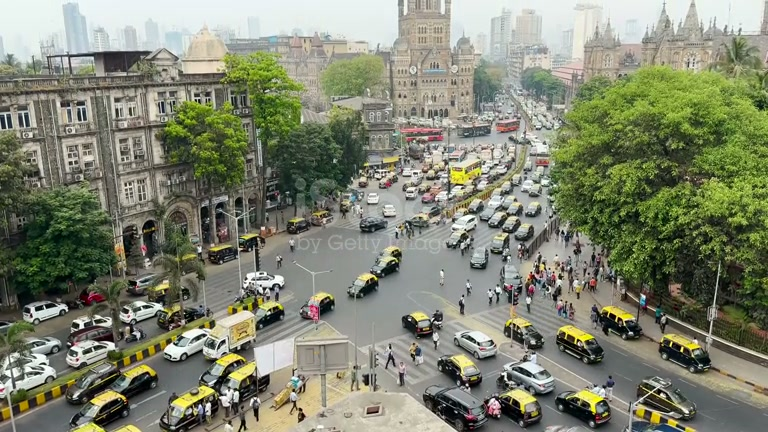bus: (494, 117, 520, 133)
car: (631, 374, 698, 424), (199, 354, 259, 407), (422, 384, 489, 431), (158, 385, 220, 432), (64, 362, 124, 406), (68, 389, 130, 431), (555, 388, 612, 428), (658, 334, 712, 373), (499, 360, 555, 396), (555, 324, 604, 365), (163, 328, 214, 363), (496, 390, 543, 427), (437, 352, 483, 388), (66, 340, 115, 368), (453, 329, 498, 359), (22, 300, 67, 325), (118, 300, 163, 325), (242, 270, 285, 294), (401, 310, 434, 337), (20, 336, 63, 356), (359, 214, 387, 232), (470, 248, 489, 269), (514, 224, 534, 242), (525, 203, 542, 217)
truck: (202, 311, 258, 361)
